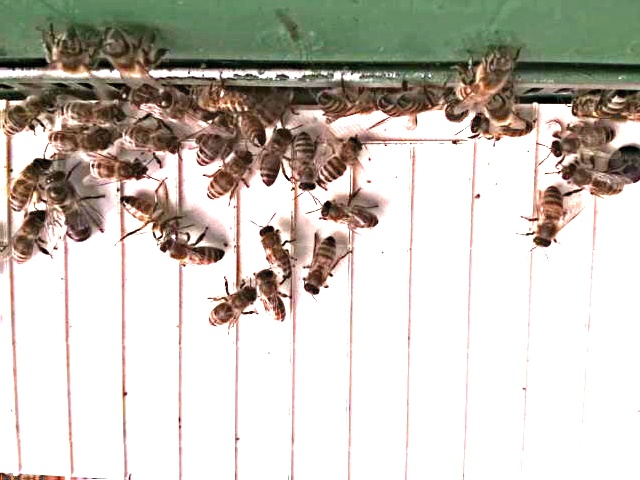Drone: (42, 169, 92, 247)
Worker: (546, 119, 617, 160), (202, 149, 253, 205), (526, 186, 566, 254), (114, 195, 178, 235), (314, 137, 364, 187), (561, 161, 625, 200), (158, 234, 223, 272), (202, 286, 254, 333), (299, 237, 338, 299), (4, 157, 46, 214), (116, 121, 182, 156), (8, 210, 44, 273), (466, 115, 534, 147), (257, 127, 290, 191), (256, 224, 293, 281), (318, 199, 380, 232), (251, 269, 286, 327), (46, 129, 114, 158), (55, 99, 123, 128), (289, 131, 319, 196), (85, 155, 146, 185)
